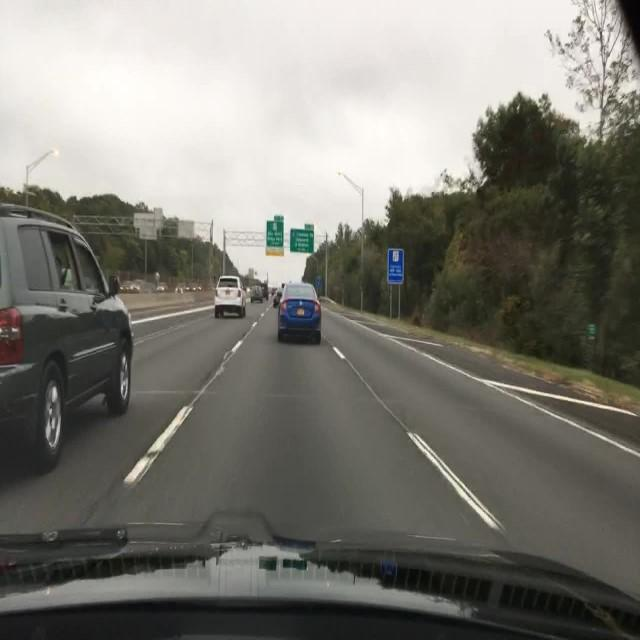normal: (167, 243, 370, 376)
